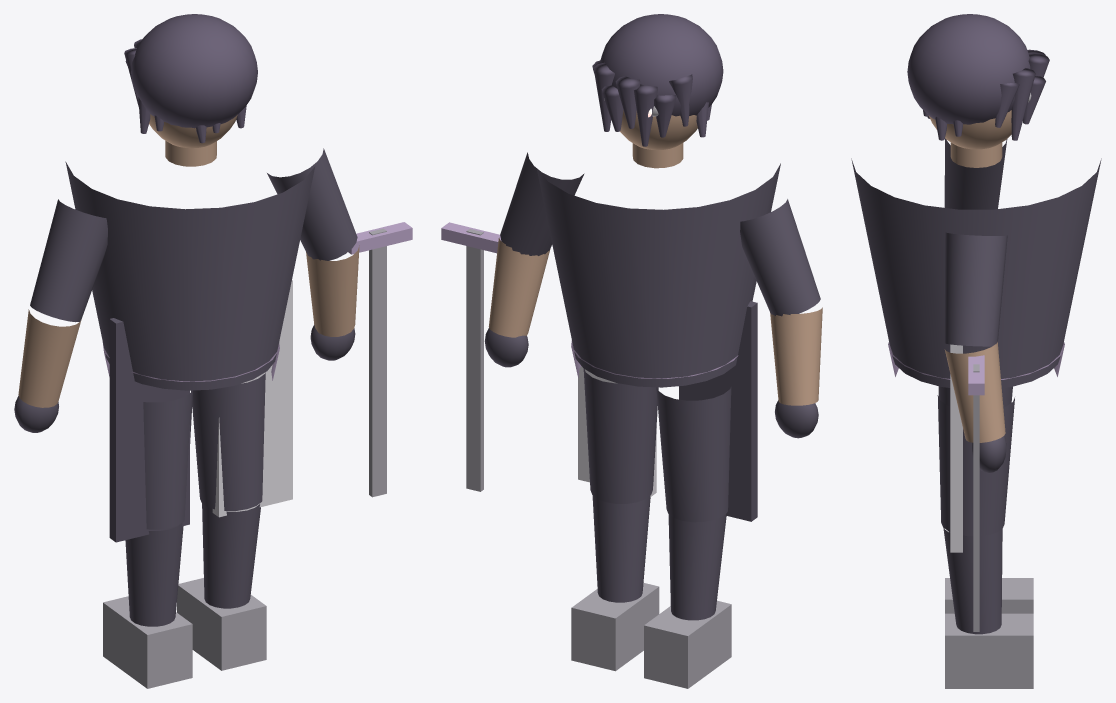
File: akari-procedural-v1.glb
The picture shows the model from 3 angles, left to right: view 1: azimuth 30°, elevation 25°; view 2: azimuth 150°, elevation 25°; view 3: azimuth 270°, elevation 25°; orthographic projection. The views are drawn at different scales.
Parts seen in each view (by area): view 1: Outfit_Torso, Hair_Cap, Body_Thigh_R, Outfit_CoatTail_L, Body_UpperArm_L, Outfit_Boot_L, Body_Thigh_L, Outfit_CoatTail_R, Outfit_Boot_R, Body_Shin_R, Body_Shin_L, Weapon_SwordBlade (+8 smaller); view 2: Outfit_Torso, Body_Thigh_L, Body_Thigh_R, Hair_Cap, Outfit_CoatTail_L, Body_UpperArm_L, Outfit_Boot_L, Outfit_Boot_R, Body_Shin_R, Body_Shin_L, Weapon_SwordBlade, Body_Forearm_L (+14 smaller); view 3: Outfit_Torso, Hair_Cap, Body_UpperArm_R, Outfit_Boot_R, Body_Thigh_R, Body_Shin_R, Body_Forearm_R, Body_UpperArm_L, Outfit_CoatTail_R, Weapon_SwordBlade, Body_Head, Outfit_Boot_L (+9 smaller).
Part boxes in pixels (left/top/right/bottom): Outfit_Torso: left=65, top=161, right=315, bottom=390; Hair_Cap: left=131, top=14, right=257, bottom=128; Body_Thigh_R: left=191, top=372, right=265, bottom=510; Outfit_CoatTail_L: left=109, top=318, right=189, bottom=542; Body_UpperArm_L: left=30, top=199, right=107, bottom=322; Outfit_Boot_L: left=103, top=596, right=192, bottom=688; Body_Thigh_L: left=143, top=390, right=192, bottom=529; Outfit_CoatTail_R: left=212, top=280, right=292, bottom=517; Outfit_Boot_R: left=177, top=578, right=266, bottom=670; Body_Shin_R: left=202, top=503, right=260, bottom=608; Body_Shin_L: left=125, top=523, right=183, bottom=626; Weapon_SwordBlade: left=369, top=228, right=386, bottom=497; Outfit_Torso: left=536, top=163, right=780, bottom=387; Body_Thigh_L: left=656, top=387, right=731, bottom=522; Body_Thigh_R: left=583, top=369, right=658, bottom=503; Hair_Cap: left=600, top=14, right=723, bottom=116; Outfit_CoatTail_L: left=679, top=301, right=757, bottom=521; Body_UpperArm_L: left=740, top=199, right=820, bottom=316; Outfit_Boot_L: left=644, top=600, right=731, bottom=688; Outfit_Boot_R: left=571, top=583, right=659, bottom=671; Body_Shin_R: left=592, top=495, right=650, bottom=602; Body_Shin_L: left=668, top=514, right=726, bottom=620; Weapon_SwordBlade: left=466, top=229, right=483, bottom=491; Body_Forearm_L: left=770, top=307, right=822, bottom=405; Outfit_Torso: left=851, top=158, right=1101, bottom=387; Hair_Cap: left=907, top=14, right=1030, bottom=124; Body_UpperArm_R: left=944, top=232, right=1007, bottom=346; Outfit_Boot_R: left=945, top=613, right=1033, bottom=688; Body_Thigh_R: left=937, top=395, right=1014, bottom=536; Body_Shin_R: left=943, top=528, right=1002, bottom=634; Body_Forearm_R: left=944, top=342, right=1005, bottom=442; Body_UpperArm_L: left=944, top=138, right=1007, bottom=209; Outfit_CoatTail_R: left=950, top=344, right=962, bottom=552; Weapon_SwordBlade: left=973, top=364, right=979, bottom=631; Body_Head: left=928, top=110, right=1011, bottom=149; Outfit_Boot_L: left=945, top=578, right=1033, bottom=613.
Size of the model in its own units: 1.22 by 1.95 by 0.6915.
